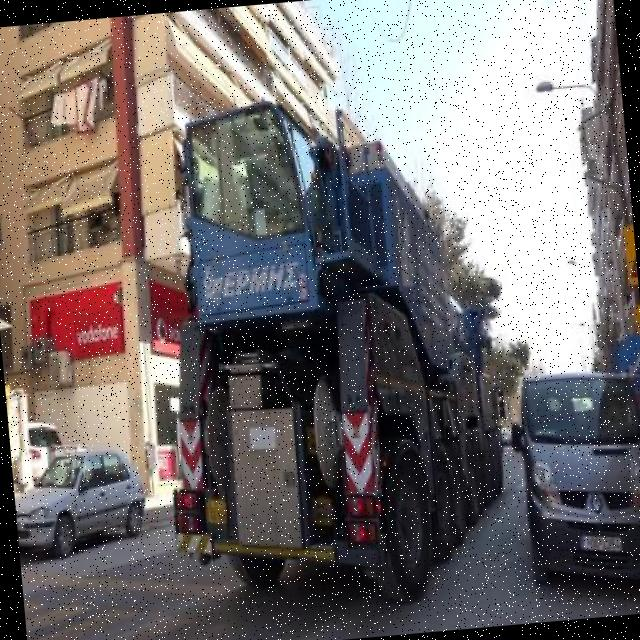Mobile Crane: (140, 81, 518, 622)
